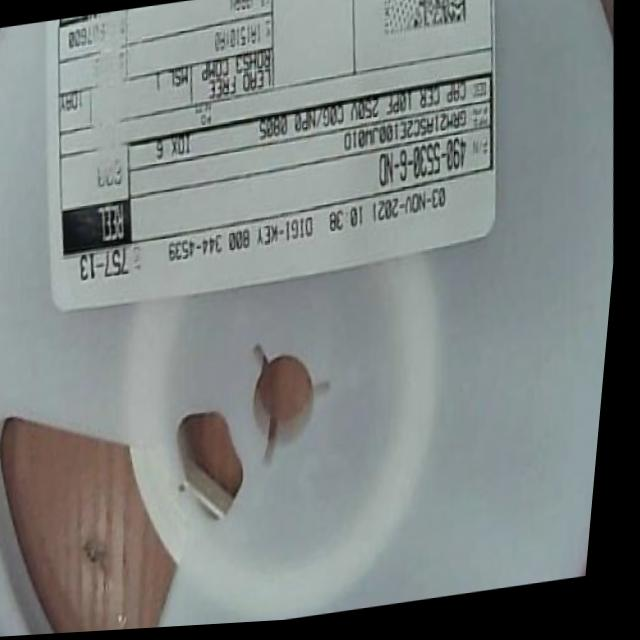datamatrix: (374, 1, 470, 46)
